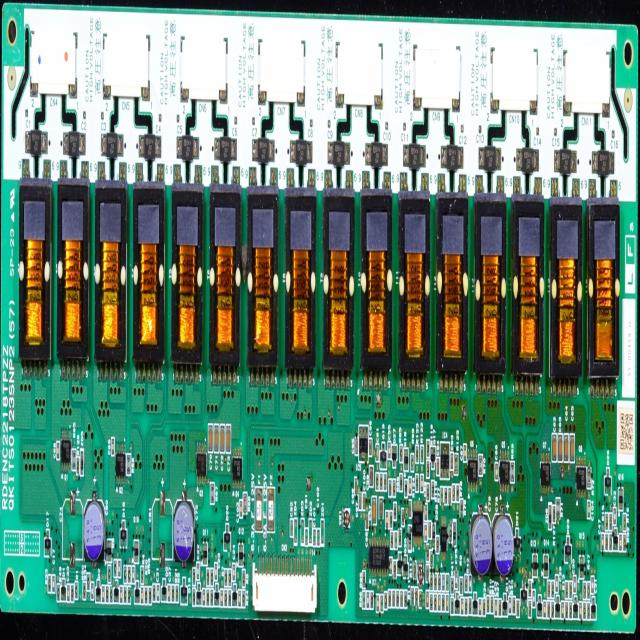Capacitor Jumper: (493, 514, 514, 576), (471, 515, 492, 576), (84, 500, 104, 563), (174, 500, 194, 562), (160, 490, 165, 570), (71, 489, 75, 568), (214, 424, 220, 453), (226, 424, 231, 453), (208, 424, 213, 453), (564, 434, 569, 463), (378, 496, 384, 520), (372, 496, 377, 524), (552, 433, 556, 462), (570, 435, 574, 464), (220, 425, 224, 453), (369, 465, 374, 487), (558, 434, 562, 461), (463, 444, 468, 462), (423, 504, 428, 522), (72, 450, 76, 470), (408, 476, 412, 496), (76, 455, 80, 474), (239, 500, 243, 519), (232, 563, 236, 582), (555, 575, 559, 594), (366, 590, 370, 609), (358, 493, 362, 511), (613, 507, 617, 525), (304, 528, 308, 546), (601, 533, 605, 551), (196, 562, 200, 580), (119, 586, 123, 604), (140, 586, 144, 604), (202, 588, 206, 606), (446, 594, 450, 612), (478, 598, 482, 616), (494, 598, 498, 616), (561, 601, 565, 619), (387, 442, 391, 459), (388, 479, 392, 495), (112, 436, 115, 456), (376, 442, 379, 462), (451, 451, 454, 471), (587, 500, 590, 520), (428, 520, 431, 540), (455, 569, 458, 589), (591, 575, 594, 595), (313, 528, 316, 547), (215, 562, 218, 581), (52, 574, 55, 593), (102, 584, 105, 603), (426, 590, 429, 609), (438, 593, 441, 612), (355, 436, 358, 454), (369, 438, 372, 456), (57, 442, 60, 460), (436, 457, 439, 475), (495, 462, 498, 480), (421, 474, 424, 492), (290, 518, 293, 536), (424, 523, 427, 541), (317, 529, 320, 547), (619, 534, 622, 552), (573, 576, 576, 594), (67, 583, 70, 601), (157, 584, 160, 602), (238, 590, 241, 608), (532, 590, 535, 608), (376, 594, 379, 612), (508, 596, 511, 614), (461, 598, 464, 616), (579, 601, 582, 619), (355, 477, 358, 494), (543, 601, 546, 618), (389, 558, 392, 574), (168, 584, 170, 603), (366, 512, 368, 529), (386, 512, 388, 528), (221, 589, 223, 605), (364, 493, 366, 508)
Connector: (253, 554, 317, 612)
IC: (369, 537, 389, 575), (412, 500, 423, 546), (440, 442, 450, 479), (441, 518, 448, 562)
Resistor Jumper: (126, 453, 132, 476), (242, 493, 248, 515), (478, 454, 483, 476), (510, 462, 515, 483), (399, 473, 404, 493), (433, 593, 438, 613), (210, 481, 214, 505), (588, 467, 592, 489), (556, 498, 560, 520), (379, 472, 383, 492), (413, 560, 417, 580), (140, 565, 144, 585), (362, 572, 367, 588), (144, 585, 148, 605), (498, 598, 502, 618), (415, 474, 419, 493), (456, 483, 460, 502), (401, 508, 405, 527), (210, 568, 214, 587), (86, 572, 90, 591), (450, 576, 454, 595), (528, 579, 532, 598), (105, 585, 109, 604), (148, 586, 152, 605), (192, 588, 196, 607), (362, 591, 366, 610), (464, 597, 468, 616), (426, 440, 430, 458), (415, 446, 419, 464), (426, 460, 430, 478), (393, 502, 397, 520), (552, 505, 556, 523), (605, 512, 609, 530), (124, 566, 128, 584), (192, 568, 196, 586), (228, 569, 232, 587), (242, 570, 246, 588), (48, 574, 52, 592), (551, 581, 555, 599), (57, 584, 61, 602), (152, 584, 156, 602), (228, 589, 232, 607), (490, 596, 494, 614), (486, 596, 490, 614), (528, 600, 532, 618), (516, 600, 520, 618), (551, 600, 555, 618), (565, 602, 569, 620), (583, 602, 587, 620), (404, 479, 408, 496), (392, 480, 396, 497), (389, 511, 393, 528), (390, 532, 394, 549), (564, 581, 568, 598), (210, 589, 214, 606), (224, 589, 228, 606), (512, 597, 516, 614), (568, 601, 572, 618), (586, 602, 590, 619), (384, 472, 387, 492), (206, 567, 209, 587), (460, 576, 463, 596), (411, 454, 414, 473), (452, 483, 455, 502), (609, 512, 612, 531), (436, 535, 439, 554), (108, 565, 111, 584), (225, 568, 228, 587), (465, 574, 468, 593), (569, 580, 572, 599), (583, 581, 586, 600), (75, 581, 78, 600), (83, 581, 86, 600), (415, 587, 418, 606), (388, 589, 391, 608), (242, 590, 245, 609), (404, 590, 407, 609), (426, 483, 429, 501), (441, 487, 444, 505), (460, 498, 463, 516), (605, 533, 608, 551), (623, 533, 626, 551), (114, 560, 117, 578), (128, 565, 131, 583), (430, 573, 433, 591), (434, 574, 437, 592), (547, 581, 550, 599), (587, 582, 590, 600), (172, 584, 175, 602), (419, 590, 422, 608), (384, 592, 387, 610), (430, 593, 433, 611), (469, 597, 472, 615), (431, 481, 434, 498), (623, 514, 626, 531), (609, 534, 612, 551), (426, 545, 429, 562), (430, 551, 433, 568), (426, 565, 429, 582), (411, 587, 414, 604), (207, 589, 210, 606), (396, 590, 399, 607), (438, 574, 441, 590), (110, 586, 113, 602), (451, 598, 454, 614), (376, 472, 378, 492), (176, 584, 178, 603), (421, 444, 423, 462), (400, 444, 402, 462), (394, 560, 396, 578), (483, 598, 485, 616), (548, 600, 550, 618), (399, 528, 401, 545), (371, 591, 373, 608)
Transistor: (196, 441, 207, 486), (232, 445, 243, 488), (61, 427, 71, 474), (576, 457, 587, 499), (468, 447, 478, 493), (500, 448, 510, 492), (116, 443, 126, 485), (541, 452, 550, 496), (359, 425, 368, 463), (237, 539, 245, 568), (380, 440, 387, 469), (397, 552, 403, 576), (532, 553, 538, 577), (402, 554, 408, 578), (543, 554, 549, 578), (578, 556, 584, 580), (403, 448, 409, 471), (618, 487, 623, 512), (107, 538, 112, 563), (134, 540, 139, 565), (203, 542, 208, 565)
